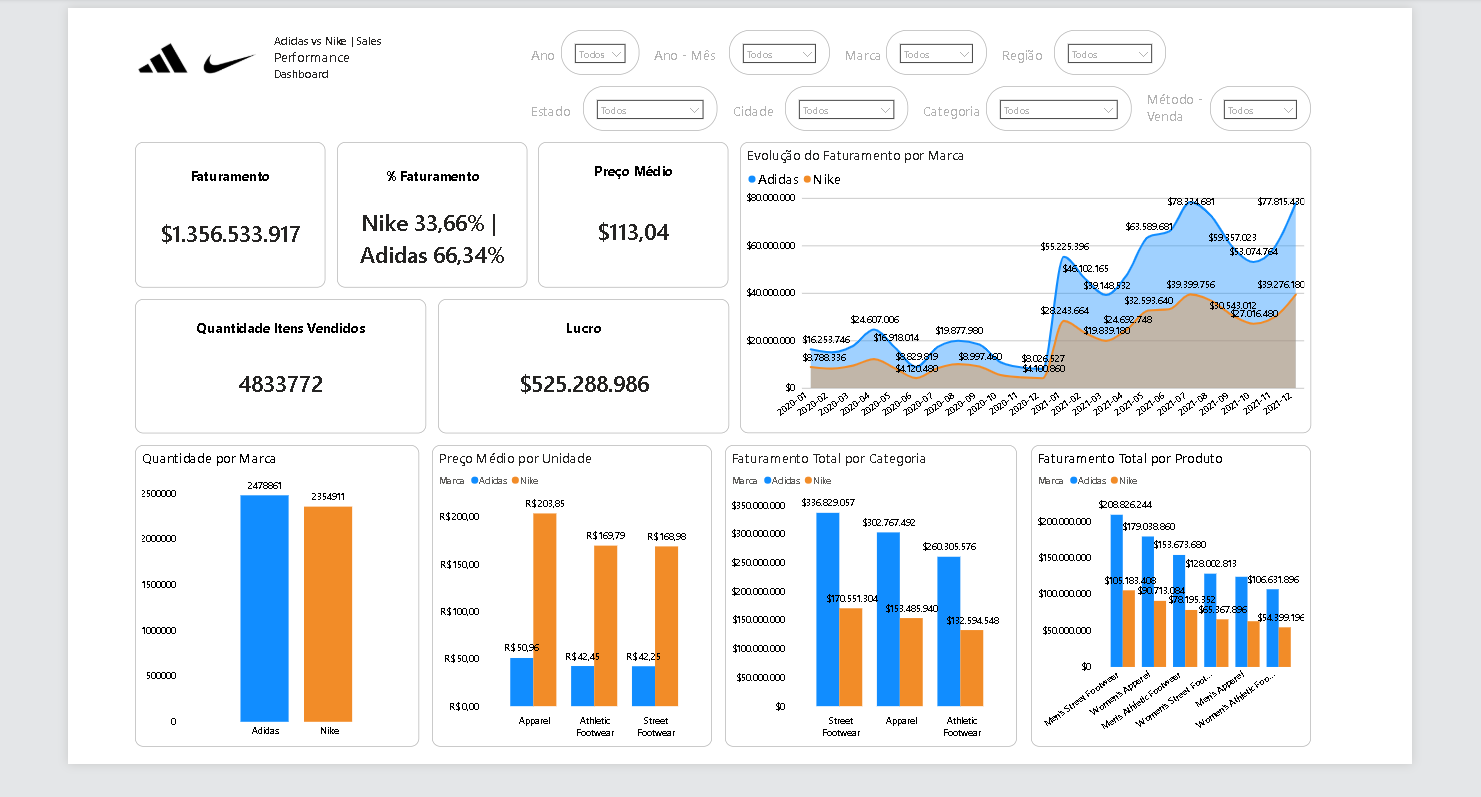

The page's visual inventory and layout, read from the dashboard file:
{"tool":"powerbi","page":{"name":"Adidas vs Nike | Sales Performance Dashboard","canvas":[1920,1080],"ordinal":0},"visuals":[{"type":"card","title":" ","fields":{"Values":["_medidas.Faturamento Total"]},"box":[96,192,272,208],"z":0},{"type":"card","title":" ","fields":{"Values":["_medidas.Participação Marcas"]},"box":[384,192,272,208],"z":1000},{"type":"card","title":" ","fields":{"Values":["_medidas.Ticket Médio"]},"box":[672,192,272,208],"z":2000},{"type":"card","title":" ","fields":{"Values":["_medidas.Quantidade Vendida"]},"box":[96,416,416,192],"z":3000},{"type":"card","title":" ","fields":{"Values":["_medidas.Lucro Operacional"]},"box":[528,416,416,192],"z":4000},{"type":"lineChart","title":"Evolução do Faturamento por Marca","fields":{"Y":["_medidas.Faturamento Total"],"Series":["Fato_Vendas.Marca"],"Category":["dCalendario.AnoMes"]},"box":[960,192,816,416],"z":5000},{"type":"clusteredColumnChart","title":"Quantidade por Marca","fields":{"Category":["Fato_Vendas.Marca"],"Y":["_medidas.Quantidade Vendida"]},"box":[95.7,624.3,405.7,431.4],"z":6000},{"type":"clusteredColumnChart","title":"Faturamento Total por Produto","fields":{"Category":["Fato_Vendas.Product"],"Y":["_medidas.Faturamento Total"],"Series":["Fato_Vendas.Marca"]},"box":[1375.7,624.3,400,431.4],"z":7000},{"type":"clusteredColumnChart","title":"Preço Médio por Unidade","fields":{"Category":["Fato_Vendas.Categoria"],"Series":["Fato_Vendas.Marca"],"Y":["_medidas.Preço Médio por Unidade"]},"box":[520,624.3,400,431.4],"z":8000},{"type":"image","box":[96,16,80,112],"z":9000},{"type":"image","box":[192,32,80,96],"z":10000},{"type":"textbox","box":[288,32,192,80],"z":11000},{"type":"slicer","fields":{"Values":["dCalendario.Ano"]},"box":[704,32,112,64],"z":12000},{"type":"slicer","fields":{"Values":["dCalendario.AnoMes"]},"box":[944,32,144,64],"z":13000},{"type":"slicer","fields":{"Values":["Fato_Vendas.Marca"]},"box":[1168,32,144,64],"z":14000},{"type":"slicer","fields":{"Values":["Fato_Vendas.State"]},"box":[736,112,192,64],"z":15000},{"type":"slicer","fields":{"Values":["Fato_Vendas.City"]},"box":[1024,112,176,64],"z":16000},{"type":"slicer","fields":{"Values":["Fato_Vendas.Categoria"]},"box":[1312,112,208,64],"z":17000},{"type":"slicer","fields":{"Values":["Fato_Vendas.Sales Method"]},"box":[1632,112,144,64],"z":18000},{"type":"slicer","fields":{"Values":["Fato_Vendas.Region"]},"box":[1408,32,160,64],"z":19000},{"type":"textbox","box":[656,48,80,48],"z":20000},{"type":"textbox","box":[832,48,112,48],"z":21000},{"type":"textbox","box":[1328,48,80,48],"z":22000},{"type":"textbox","box":[656,128,80,48],"z":23000},{"type":"textbox","box":[944,128,80,48],"z":24000},{"type":"textbox","box":[1216,128,96,48],"z":25000},{"type":"textbox","box":[1536,112,96,64],"z":26000},{"type":"textbox","box":[1104,48,64,48],"z":27000},{"type":"clusteredColumnChart","title":"Faturamento Total por Categoria","fields":{"Category":["Fato_Vendas.Categoria"],"Y":["_medidas.Faturamento Total"],"Series":["Fato_Vendas.Marca"]},"box":[938.6,624.3,417.1,431.4],"z":28000}]}

Visuals, with their boxes on the page's 1920x1080 design canvas (x1, y1, x2, y2). These are canvas units, not pixel positions in the 1481x797 screenshot, which may show the page scaled, cropped or inside an application window:
" " card: bbox=[96, 192, 368, 400]
" " card: bbox=[384, 192, 656, 400]
" " card: bbox=[672, 192, 944, 400]
" " card: bbox=[96, 416, 512, 608]
" " card: bbox=[528, 416, 944, 608]
"Evolução do Faturamento por Marca" lineChart: bbox=[960, 192, 1776, 608]
"Quantidade por Marca" clusteredColumnChart: bbox=[96, 624, 501, 1056]
"Faturamento Total por Produto" clusteredColumnChart: bbox=[1376, 624, 1776, 1056]
"Preço Médio por Unidade" clusteredColumnChart: bbox=[520, 624, 920, 1056]
image: bbox=[96, 16, 176, 128]
image: bbox=[192, 32, 272, 128]
textbox: bbox=[288, 32, 480, 112]
slicer - dCalendario.Ano: bbox=[704, 32, 816, 96]
slicer - dCalendario.AnoMes: bbox=[944, 32, 1088, 96]
slicer - Fato_Vendas.Marca: bbox=[1168, 32, 1312, 96]
slicer - Fato_Vendas.State: bbox=[736, 112, 928, 176]
slicer - Fato_Vendas.City: bbox=[1024, 112, 1200, 176]
slicer - Fato_Vendas.Categoria: bbox=[1312, 112, 1520, 176]
slicer - Fato_Vendas.Sales Method: bbox=[1632, 112, 1776, 176]
slicer - Fato_Vendas.Region: bbox=[1408, 32, 1568, 96]
textbox: bbox=[656, 48, 736, 96]
textbox: bbox=[832, 48, 944, 96]
textbox: bbox=[1328, 48, 1408, 96]
textbox: bbox=[656, 128, 736, 176]
textbox: bbox=[944, 128, 1024, 176]
textbox: bbox=[1216, 128, 1312, 176]
textbox: bbox=[1536, 112, 1632, 176]
textbox: bbox=[1104, 48, 1168, 96]
"Faturamento Total por Categoria" clusteredColumnChart: bbox=[939, 624, 1356, 1056]
